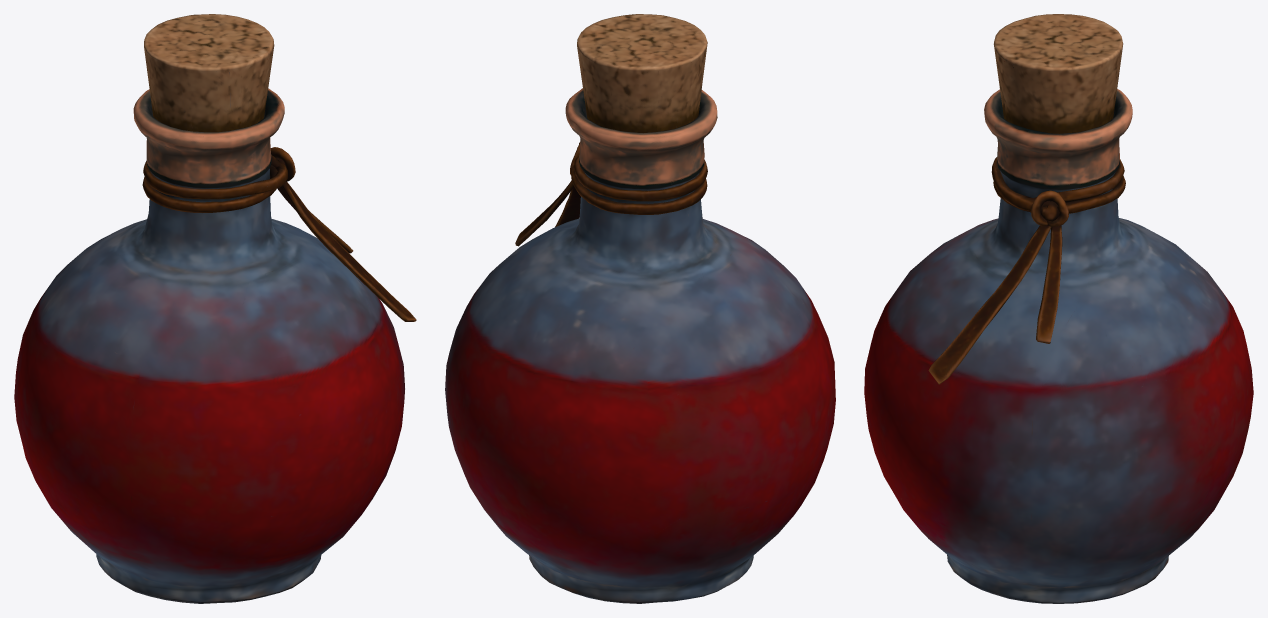
The model's file is potion.glb.
The picture shows the model from 3 angles, left to right: view 1: azimuth 30°, elevation 25°; view 2: azimuth 150°, elevation 25°; view 3: azimuth 270°, elevation 25°; orthographic projection.
Parts seen in each view (by area): view 1: geometry_0; view 2: geometry_0; view 3: geometry_0.
Part boxes in pixels (x1,y1,x2,y2): geometry_0: [14, 14, 416, 603]; geometry_0: [445, 14, 835, 603]; geometry_0: [864, 14, 1253, 603].
Bounding box in the file's own units: 0.6903 × 1 × 0.6833.
Materials: 1 (1 with a texture image).
